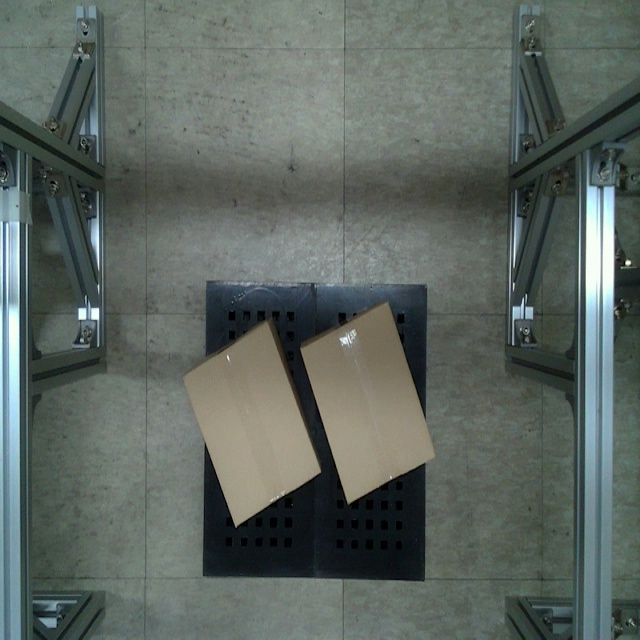box: (180, 317, 325, 533), (296, 300, 439, 508)
